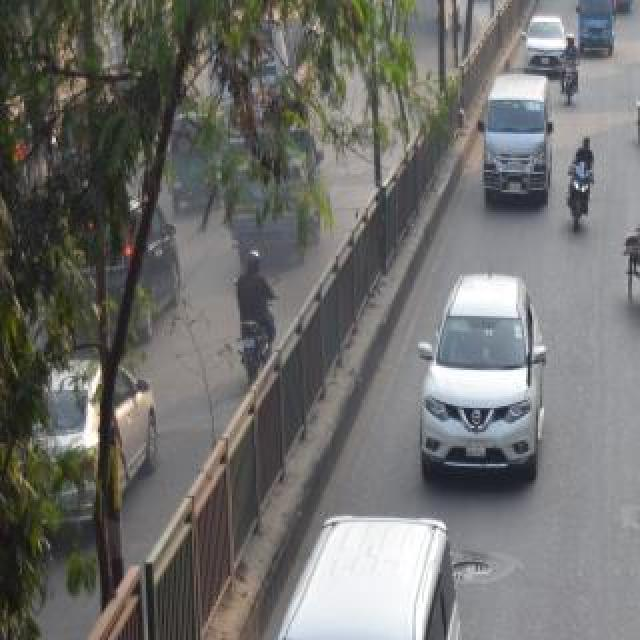car: (392, 267, 554, 487), (0, 356, 162, 544), (48, 196, 178, 340), (515, 4, 563, 54)
motorbike: (561, 121, 607, 235), (236, 247, 274, 363), (558, 27, 578, 113)
van: (226, 506, 460, 640), (472, 79, 560, 213), (576, 2, 618, 58)
